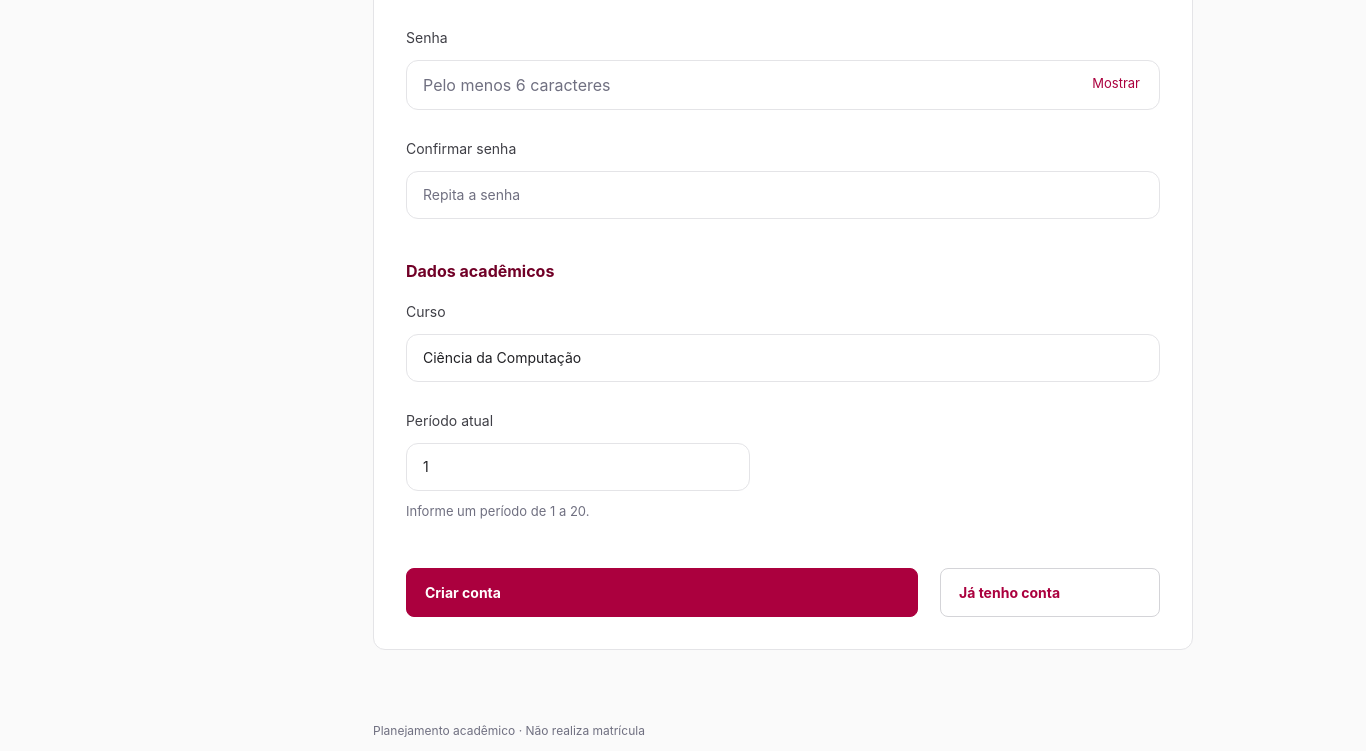
Test: RegisterPage (autocadastro) › apaga o erro de um campo assim que o aluno volta a digitar nele
(page scrolled)
Click the button "Criar conta": (463, 592) [406, 568, 918, 617]
(page scrolled)
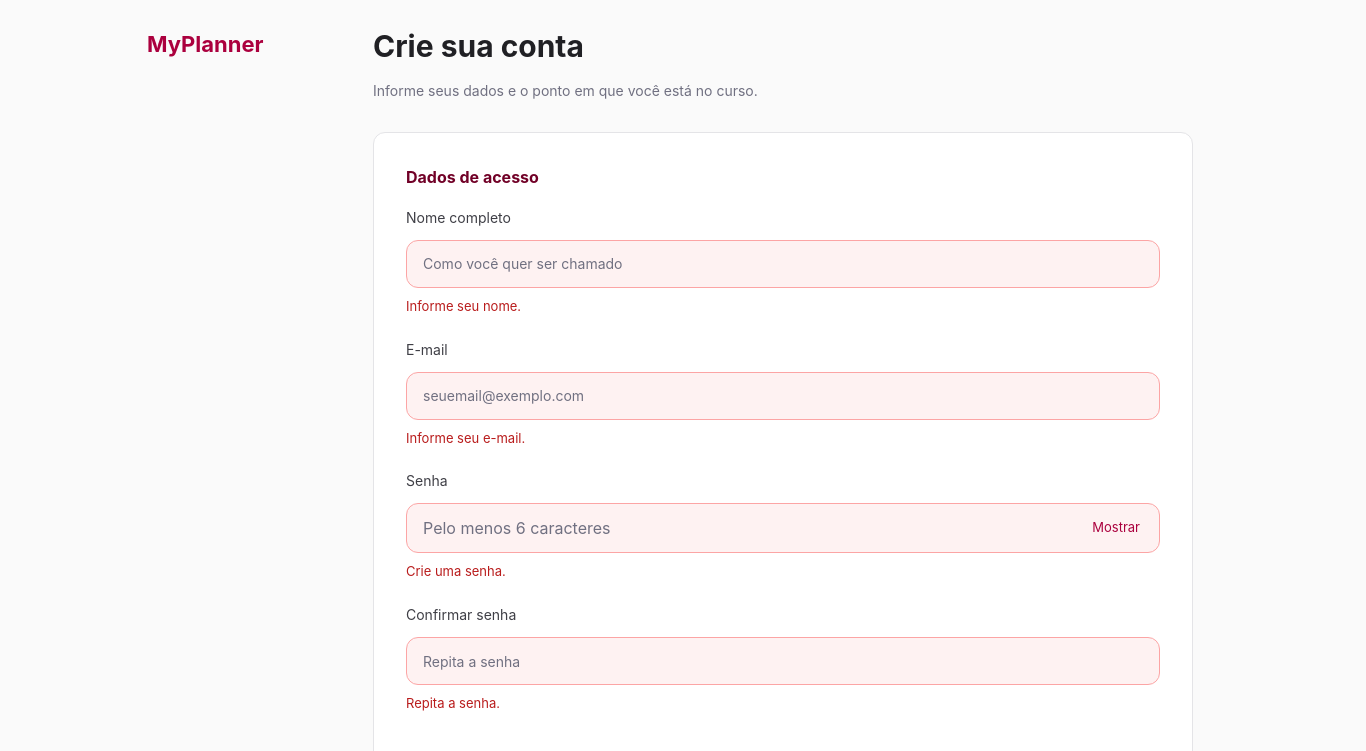
Now the text "Informe seu nome." is shown, box [406, 298, 521, 314]
In the field labelled "Nome completo": (783, 264) [406, 240, 1160, 288], type "L"
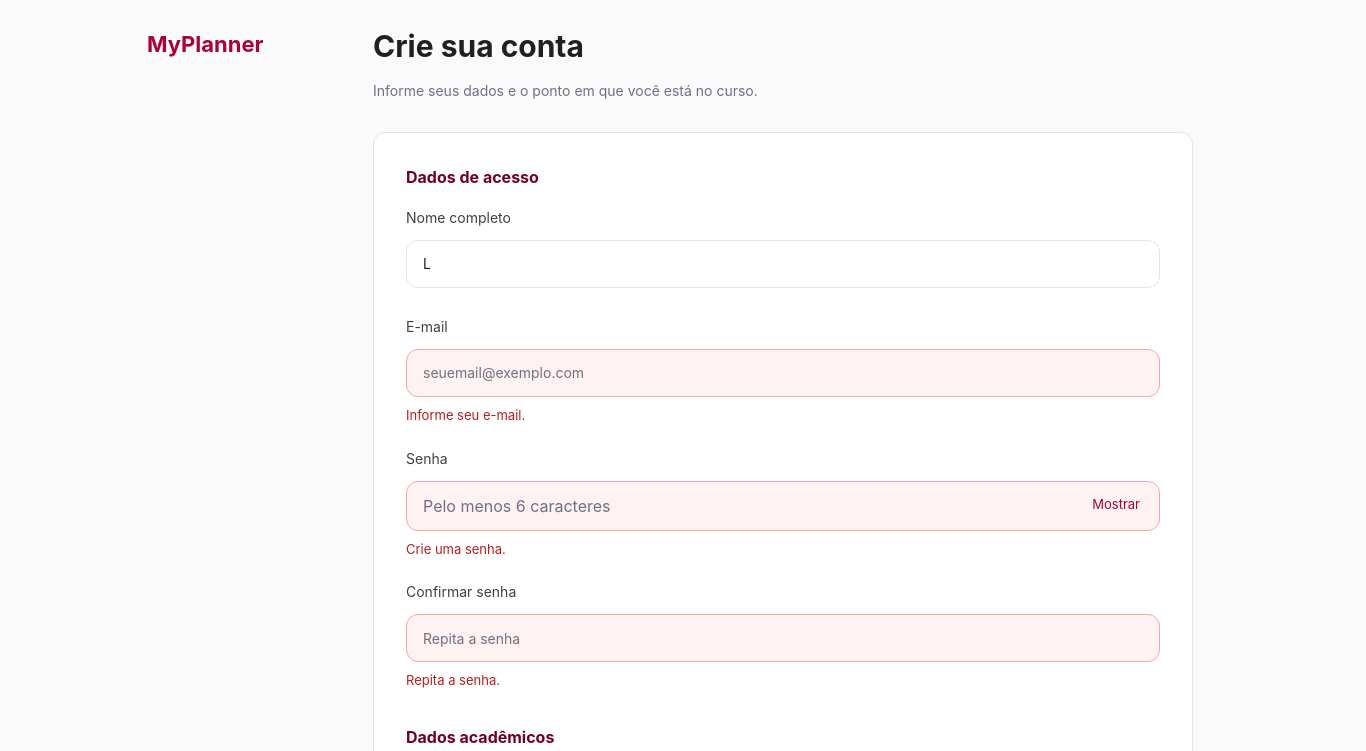
Now the text "Informe seu e-mail." is shown, box [406, 407, 525, 423]
Now the text "Informe seu nome." is gone
